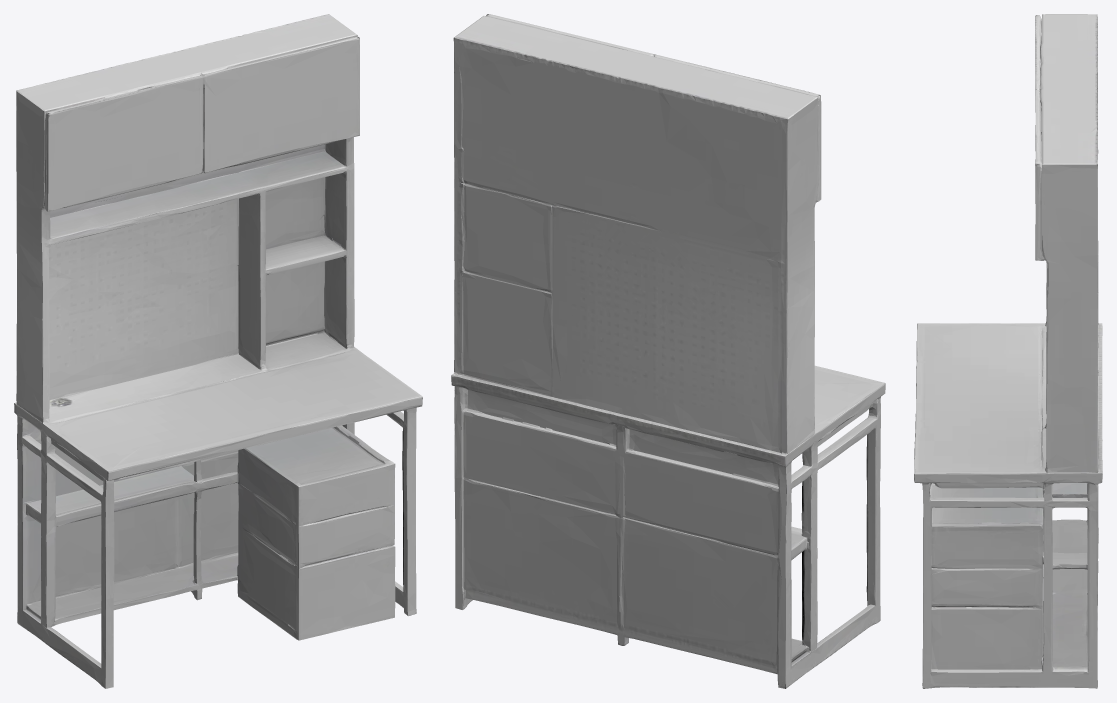
Rendered from d7431e47-b304-4b9b-8df8-b2aead54355f.glb.
3 renders of one model, left to right at view 1: azimuth 30°, elevation 25°; view 2: azimuth 150°, elevation 25°; view 3: azimuth 270°, elevation 25°, orthographic. The views are drawn at different scales.
Visible parts, largest first — view 1: world; view 2: world; view 3: world.
Boxes of the visible parts, x1,y1,x2,y2 form: world: (14,14,422,688); world: (451,14,885,688); world: (914,14,1102,688).
Size of the model in its own units: 0.6141 by 1 by 0.3251.
Materials: 1 (1 with a texture image).
